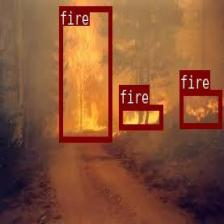fire: (58, 6, 111, 142), (179, 89, 222, 128), (119, 104, 162, 129)
